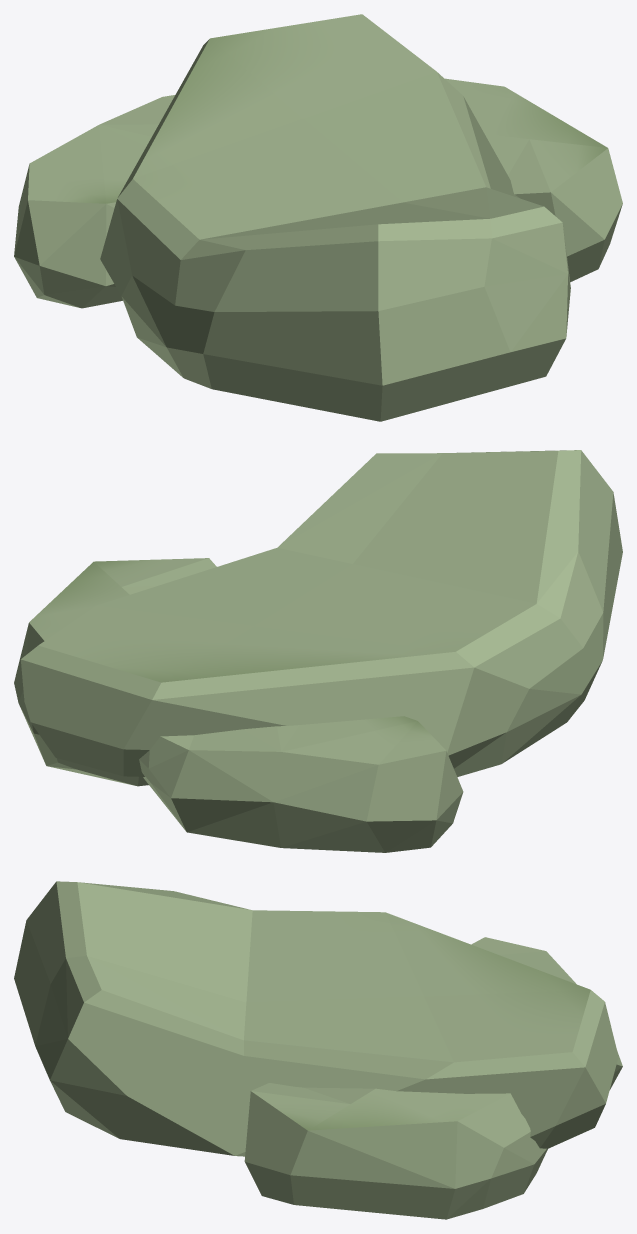
File: EA_Swamp_RockBig_01a.glb
3 renders of one model, top to bottom at view 1: azimuth 30°, elevation 25°; view 2: azimuth 150°, elevation 25°; view 3: azimuth 270°, elevation 25°, orthographic. The views are drawn at different scales.
Parts seen in each view (by area): view 1: EA_Swamp_RockBig_01a; view 2: EA_Swamp_RockBig_01a; view 3: EA_Swamp_RockBig_01a.
Part boxes in pixels (x1,y1,x2,y2): EA_Swamp_RockBig_01a: (14,14,622,421); EA_Swamp_RockBig_01a: (14,450,622,852); EA_Swamp_RockBig_01a: (14,881,622,1219).
Size of the model in its own units: 4.51 by 2.03 by 5.63.
Materials: 1 (1 with a texture image).
